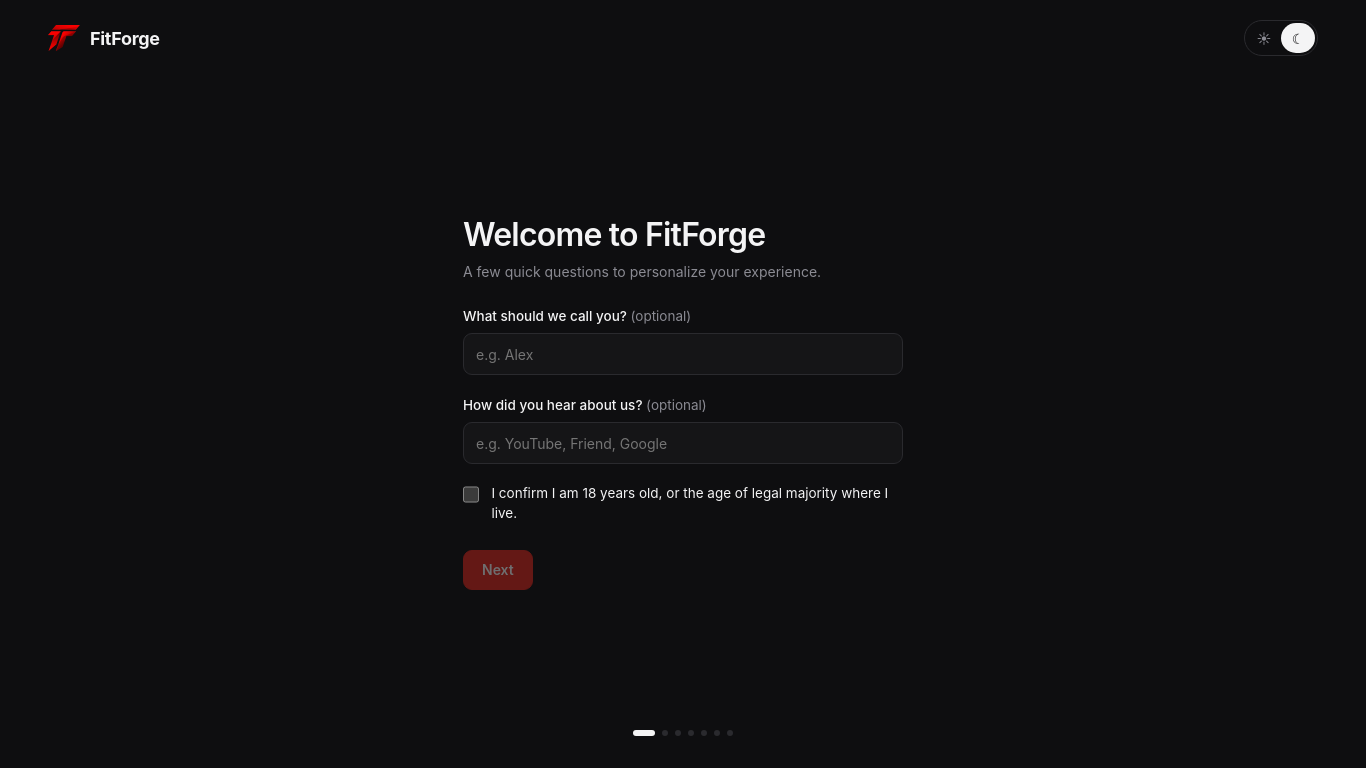
OnboardingPage Component › renders Step 0 (Welcome) with Next button disabled until adult consent is checked
The image size is (1366, 768).
Check: the heading "Welcome to FitForge" is shown, box [463,216,765,254]
Check: the field labelled "What should we call you? (optional)" is shown, box [476,334,890,374]
Click the checkbox: (471, 495) [463,486,479,503]
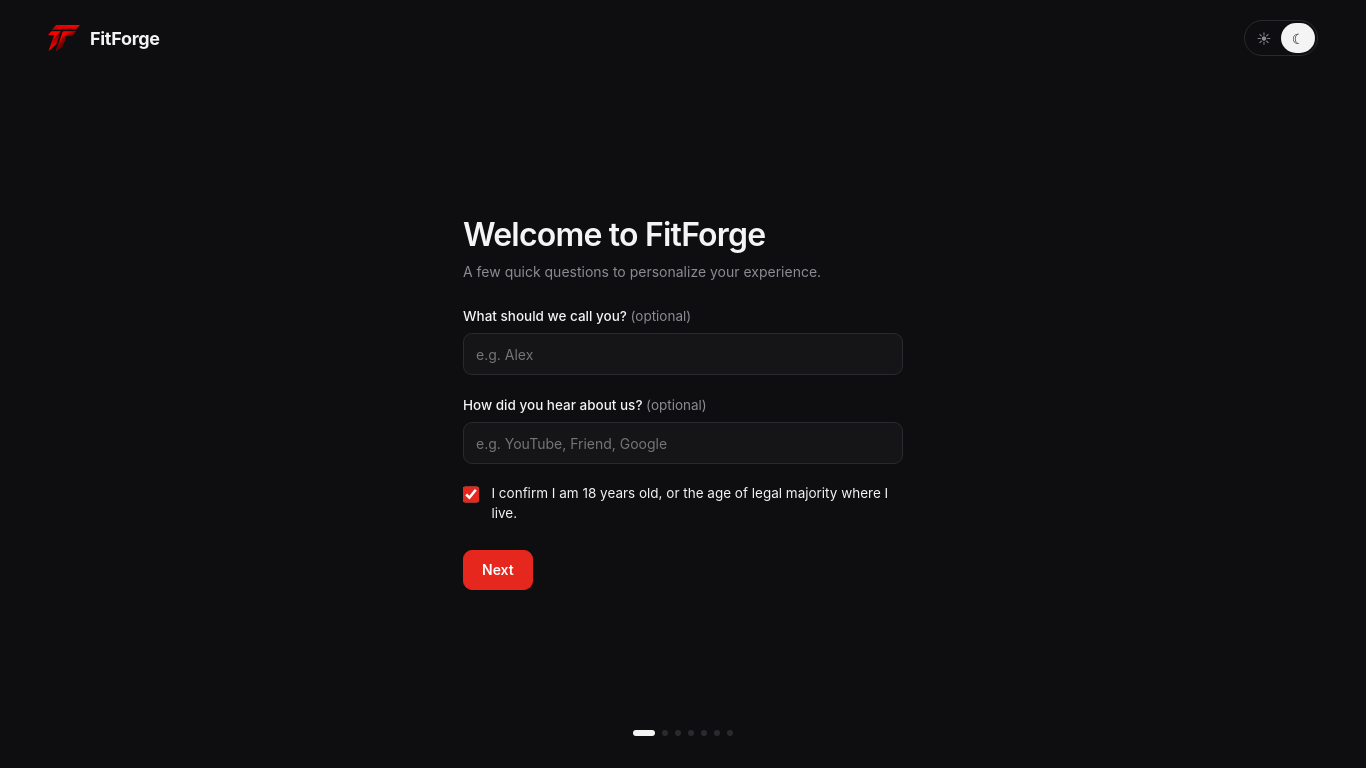
Check: the button "Next" is enabled
Click the button "Next": (498, 570) [463,550,533,590]
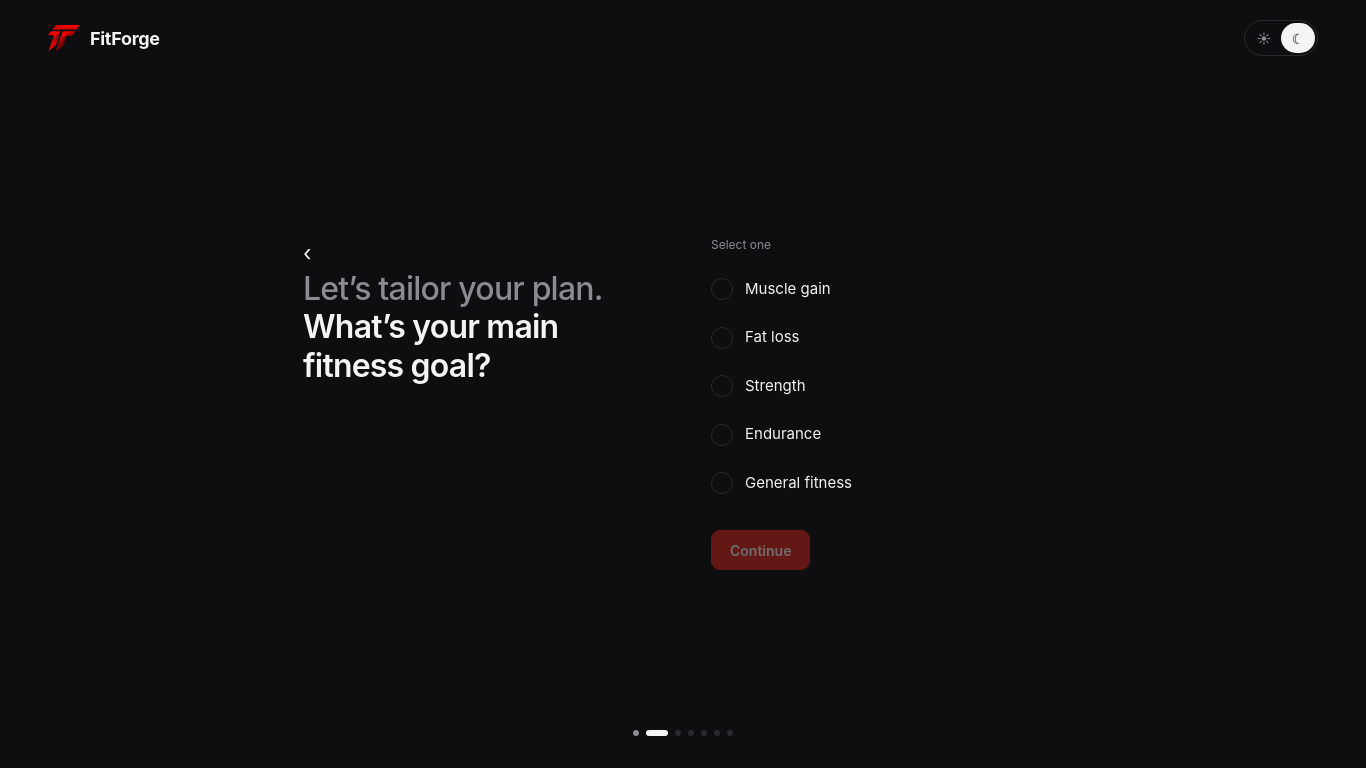
Check: the heading "What’s your main" is shown, box [303,307,558,346]
Check: the text "Muscle gain" is shown, box [745,278,831,300]
